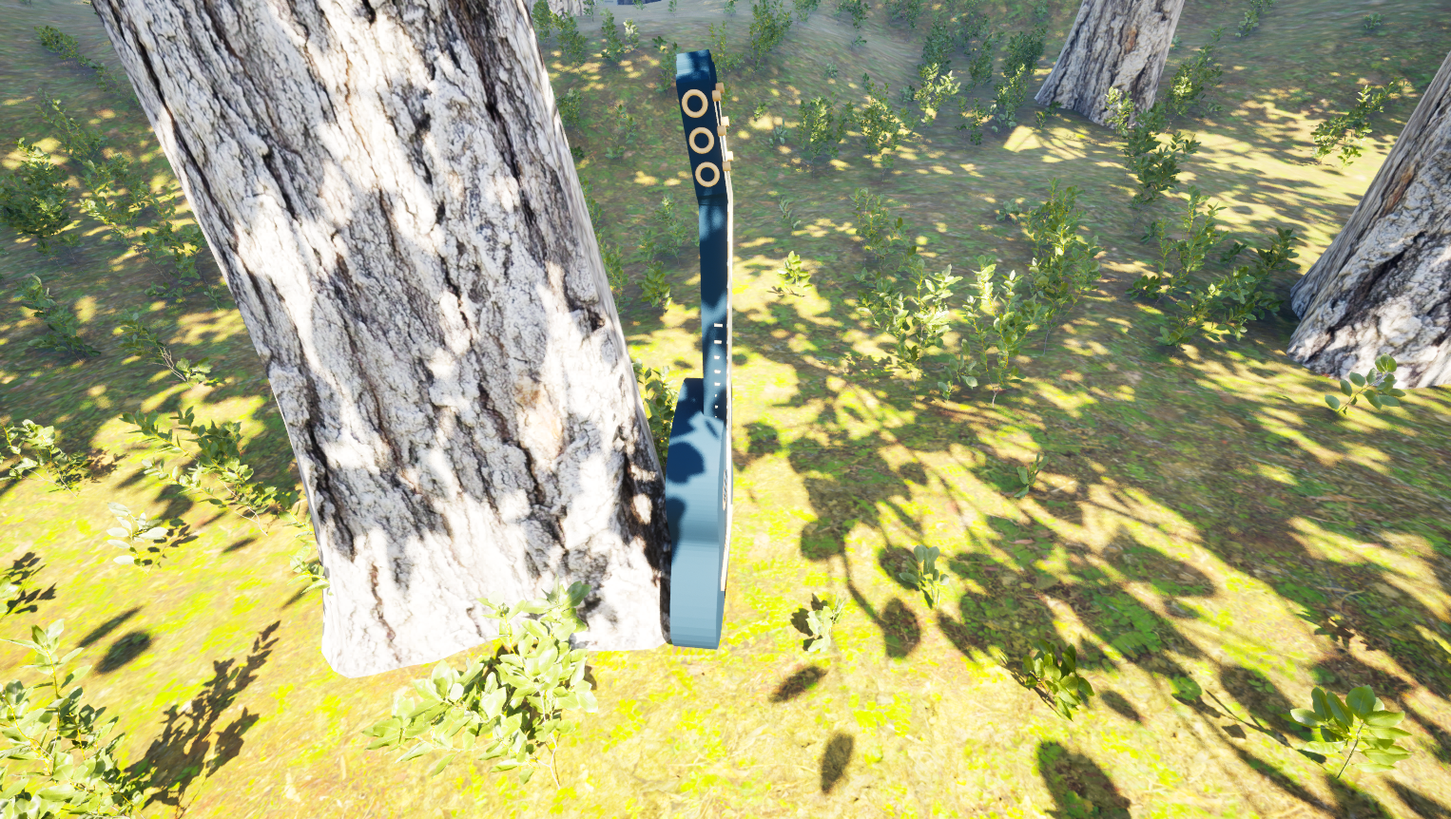Guitar: (615, 27, 744, 680)
